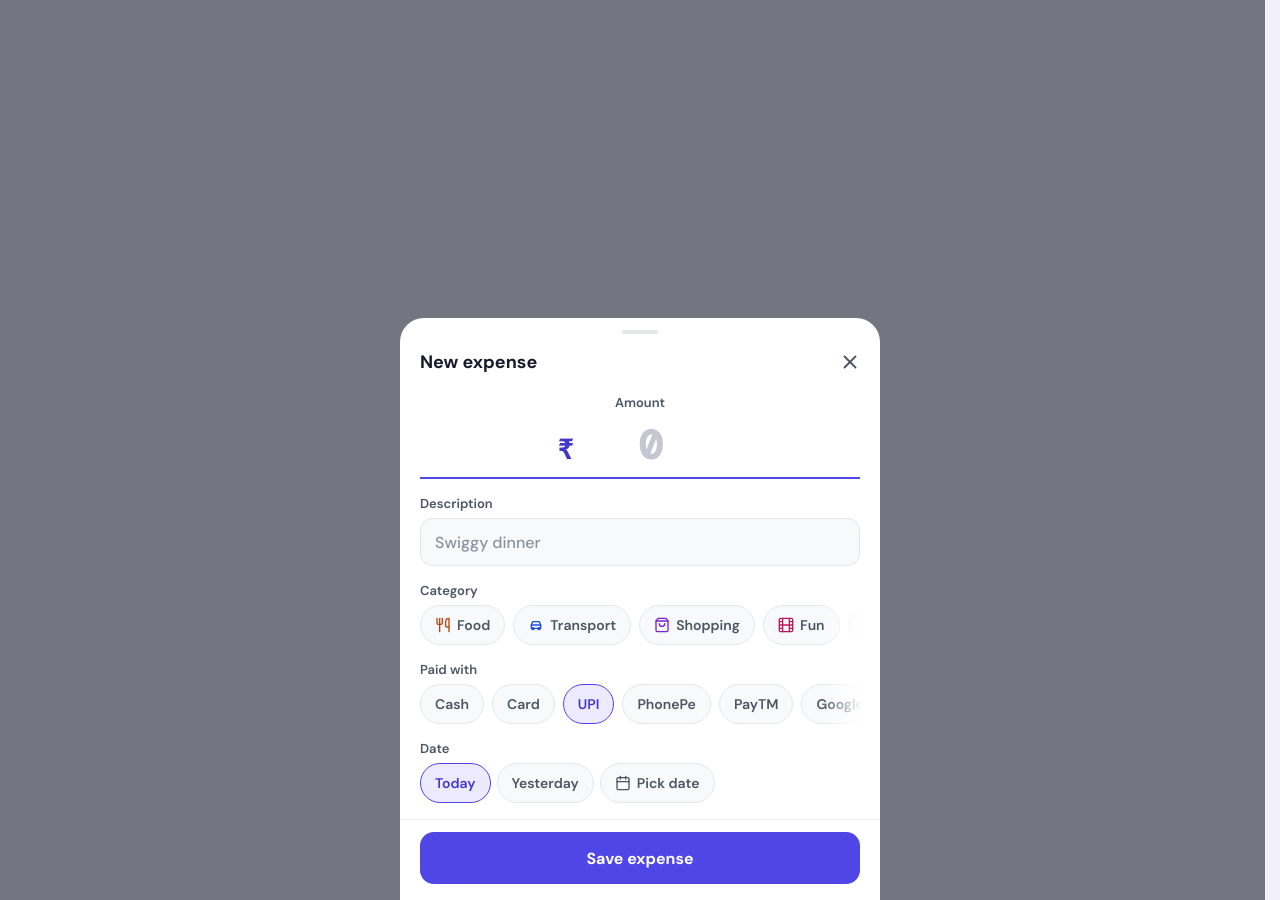
Test: shows a validation message under the field it is about
This screenshot has width=1280, height=900.
In the field labelled "Amount": (650, 445) 578,419 -> 722,471, type "50"
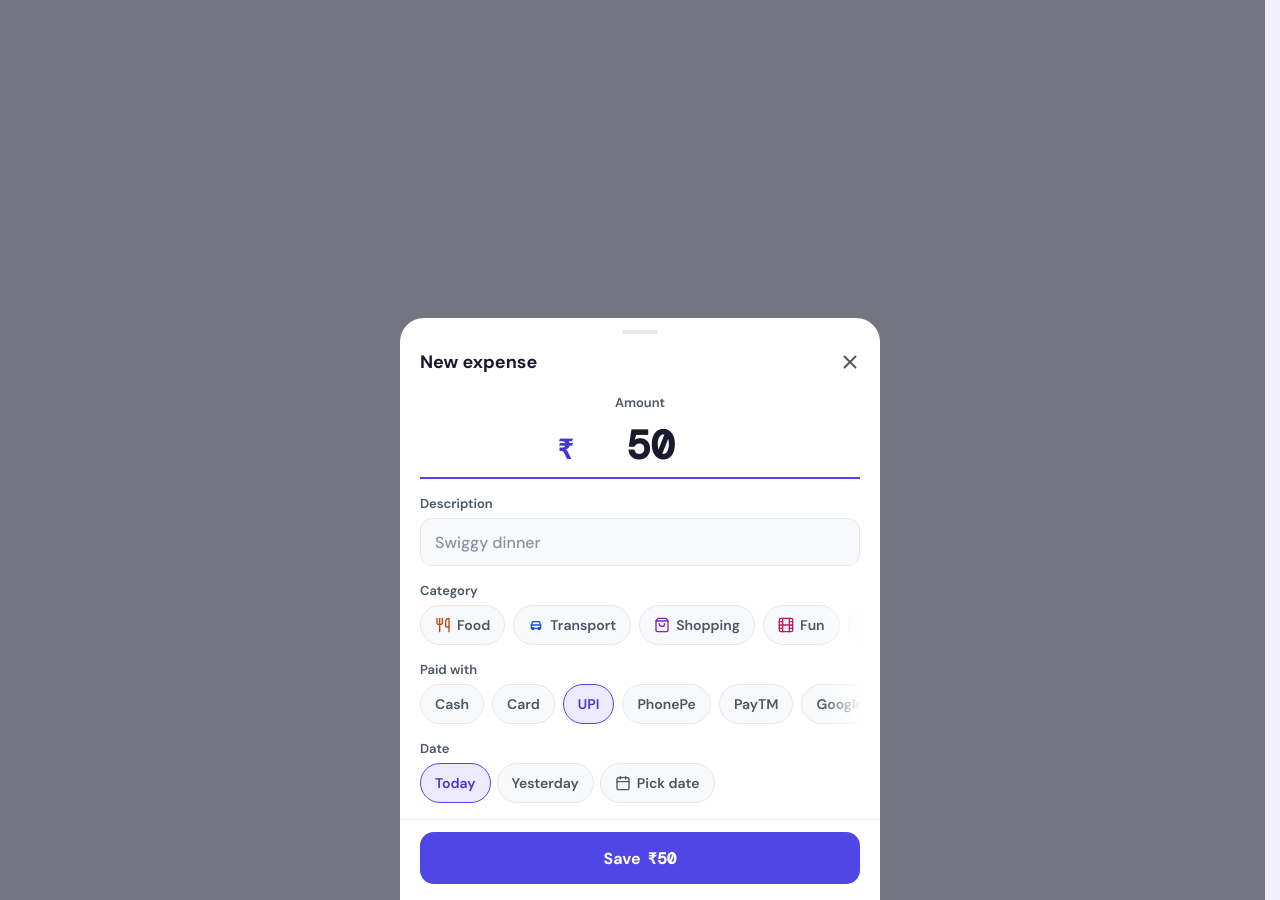
Click the button "Save ₹50": (640, 858) 420,832 -> 860,884
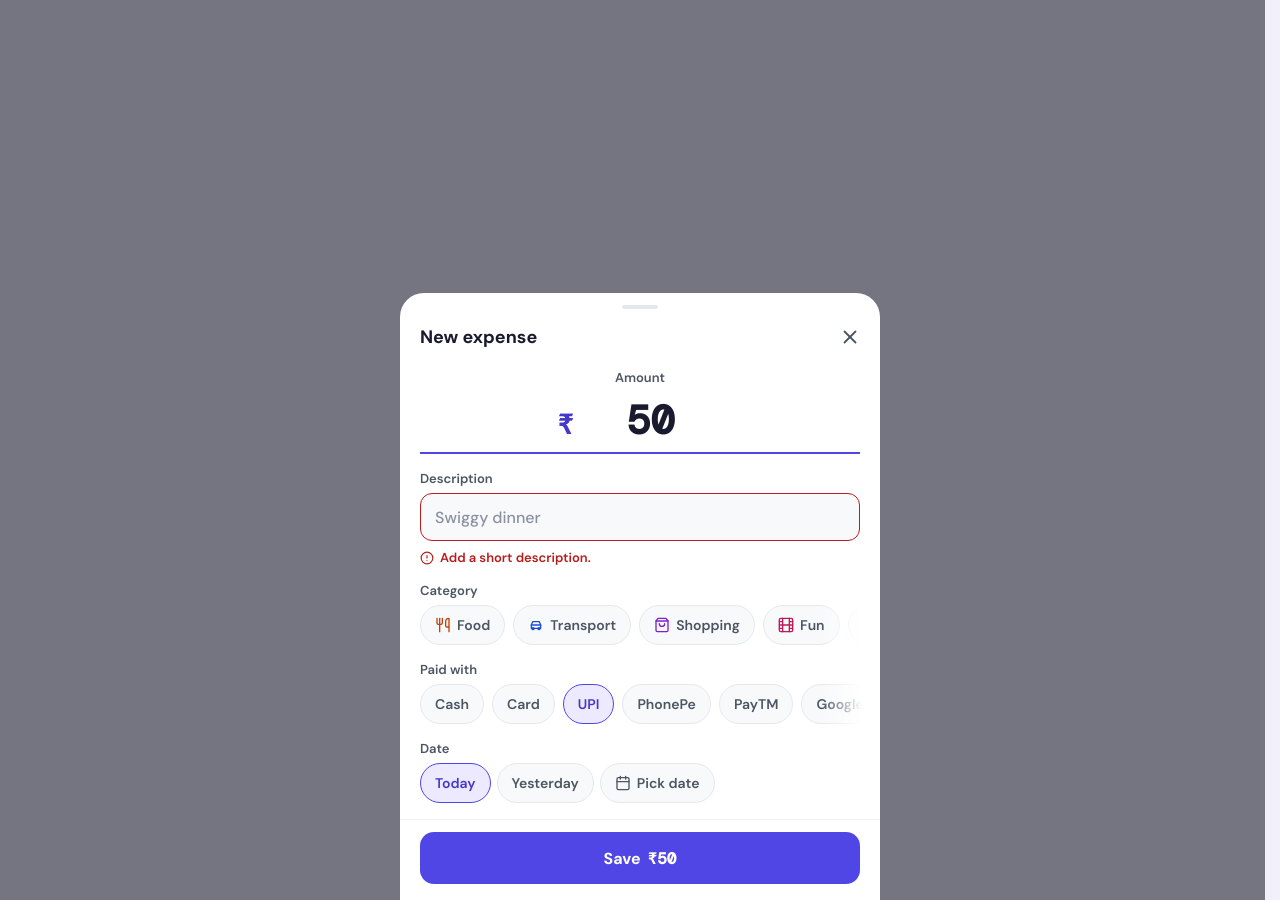
Check: the text "Add a short description." is shown, box 420,549 -> 591,566
